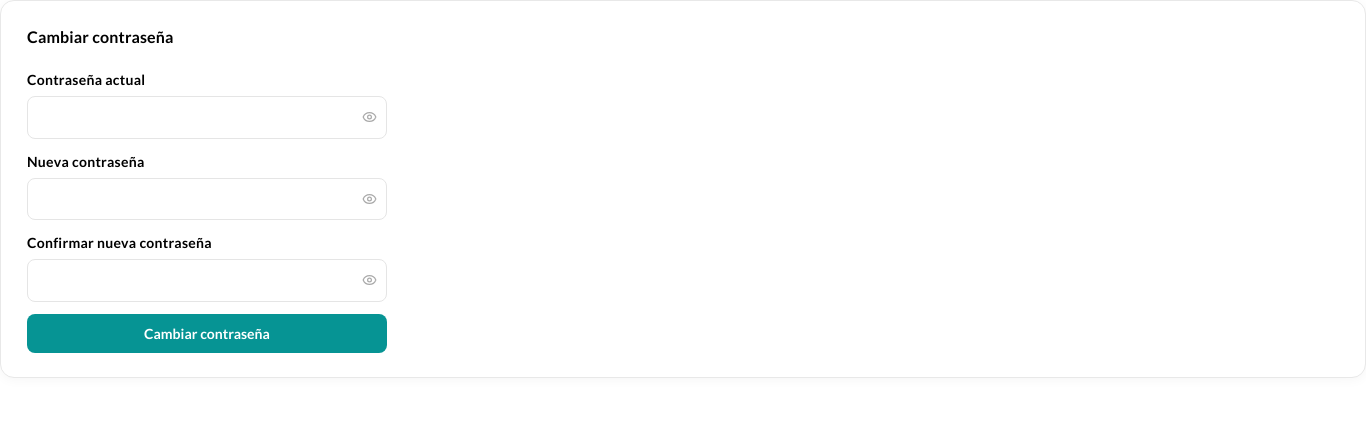
SecuritySection (cambiar contraseña del admin) › no manda nada si la confirmación no coincide
In the password field labelled "Contraseña actual": (207, 117) [27, 96, 387, 138], type "ClaveVieja123"
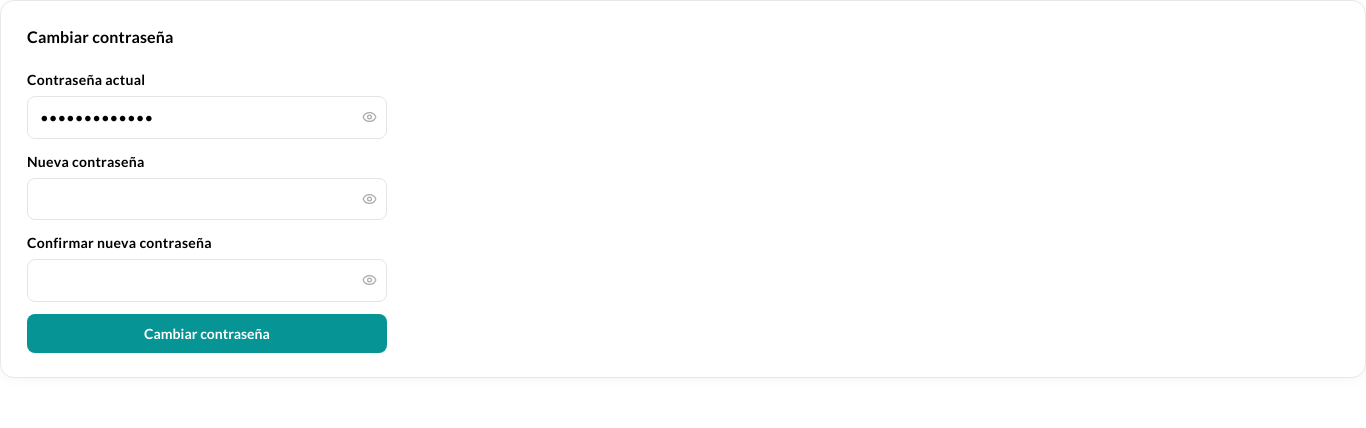
In the password field labelled "Nueva contraseña": (207, 199) [27, 178, 387, 220], type "ClaveNueva123"
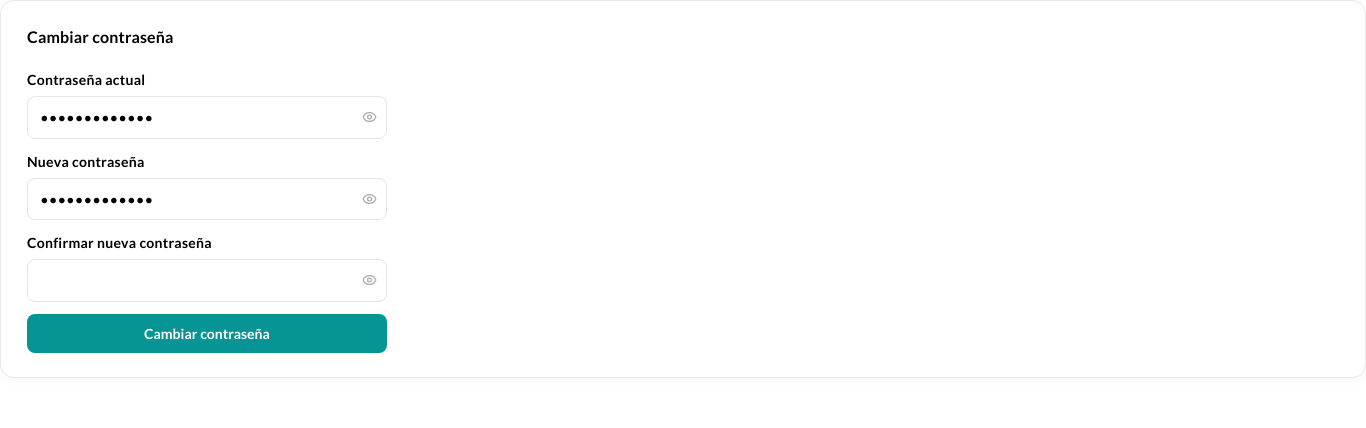
In the password field labelled "Confirmar nueva contraseña": (207, 280) [27, 259, 387, 302], type "OtraClave1234"
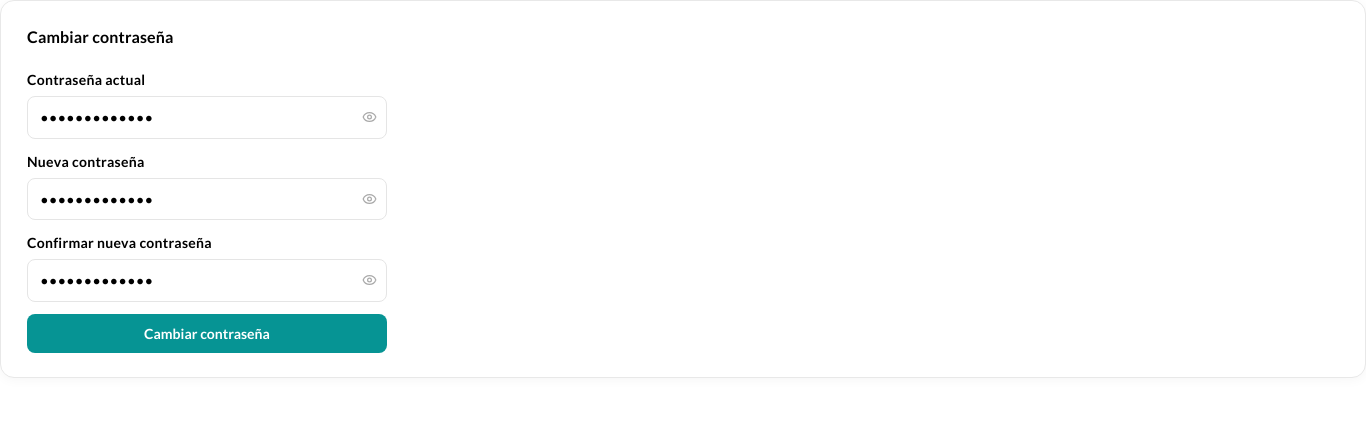
Click the button "Cambiar contraseña": click(207, 333) [27, 314, 387, 352]
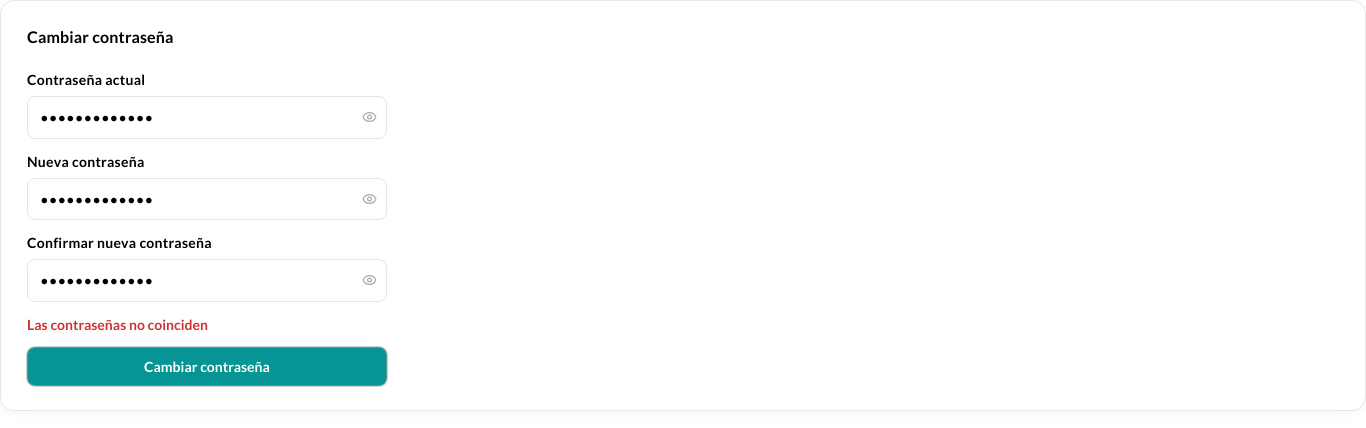
Result: the text "Las contraseñas no coinciden" is shown at [27, 316, 208, 332]
